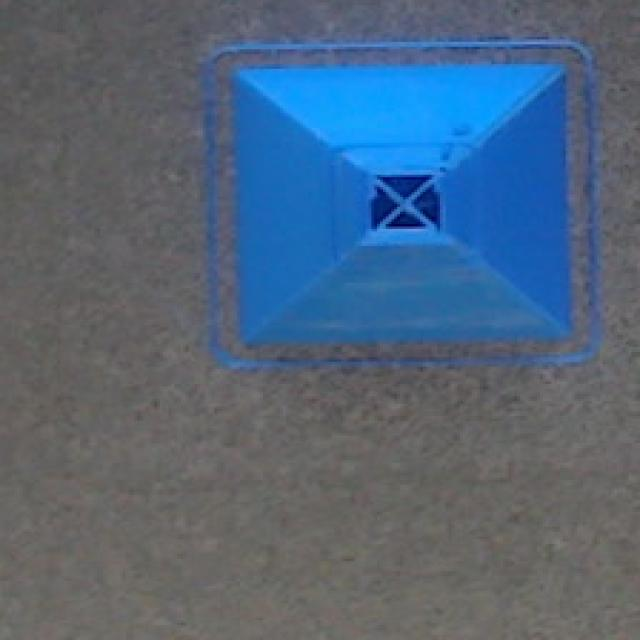mistake: (213, 64, 597, 357)
